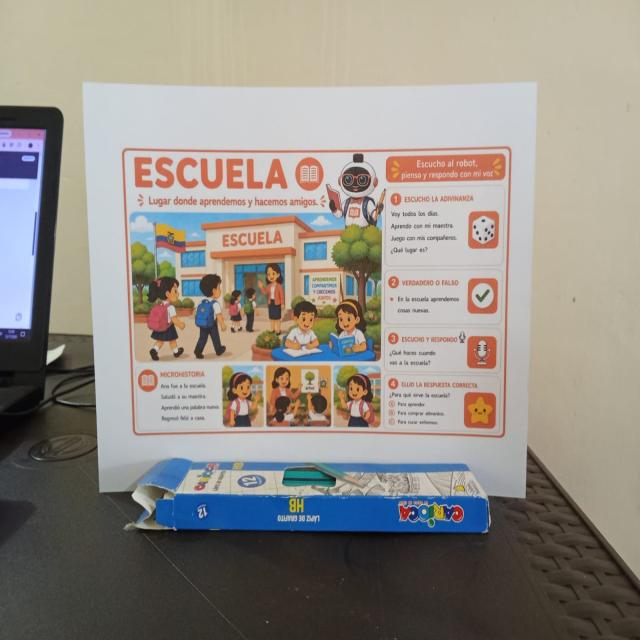escuela: (118, 141, 516, 443)
